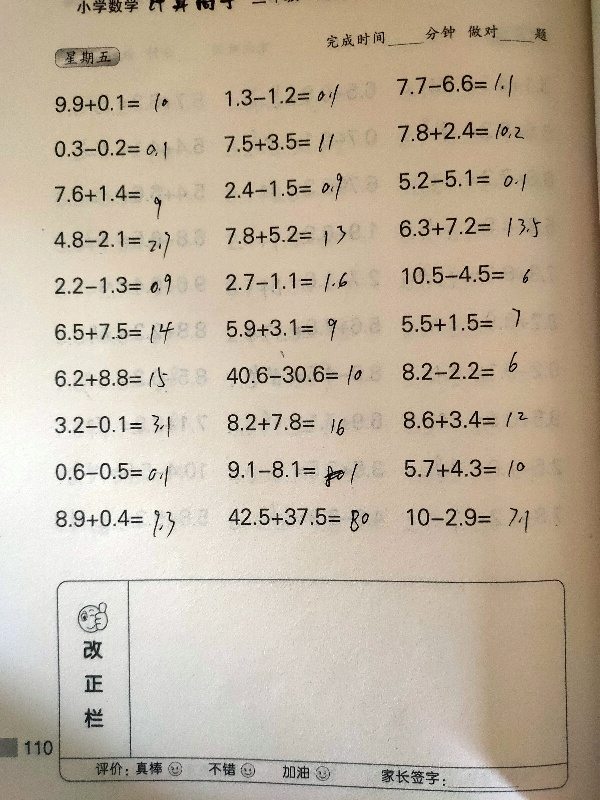equation: (223, 499, 380, 545), (227, 449, 380, 496), (401, 500, 548, 540), (387, 64, 523, 107), (384, 113, 533, 152), (212, 127, 352, 165), (396, 212, 548, 247), (395, 303, 528, 343), (395, 403, 541, 439), (45, 315, 183, 353), (217, 79, 356, 115), (44, 268, 179, 305), (220, 311, 349, 349), (222, 170, 362, 205), (392, 163, 536, 197), (48, 177, 168, 217), (223, 408, 381, 438), (49, 228, 181, 263), (217, 360, 364, 391), (400, 353, 529, 388), (392, 259, 532, 291), (217, 268, 352, 301), (49, 364, 185, 396), (51, 505, 178, 539), (221, 221, 363, 251), (399, 453, 541, 481), (100, 630, 130, 754), (51, 409, 173, 439), (51, 457, 172, 487), (51, 90, 186, 116), (50, 134, 170, 161)
